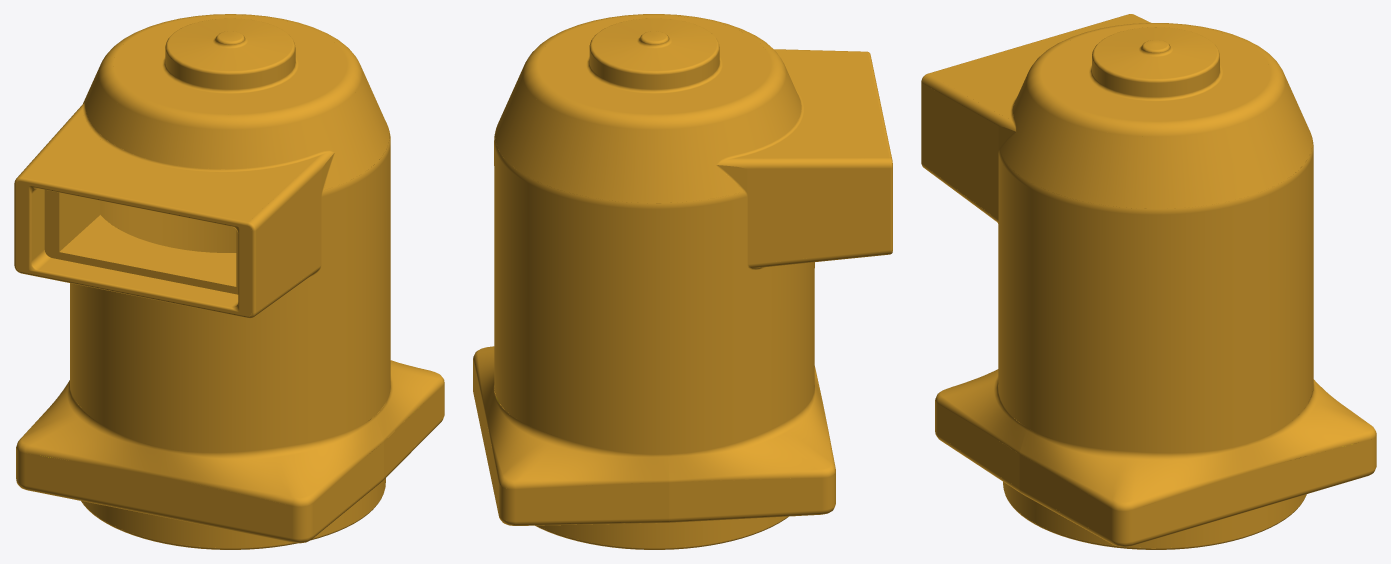
Rendered from 04.8_izolyator-prokhodnoy-uglovoy-ipu-10-208.glb.
The picture shows the model from 3 angles, left to right: view 1: azimuth 30°, elevation 25°; view 2: azimuth 150°, elevation 25°; view 3: azimuth 270°, elevation 25°; orthographic projection.
Visible parts, largest first — view 1: 04.8_izolyator-prokhodnoy-uglovoy-ipu-10-208; view 2: 04.8_izolyator-prokhodnoy-uglovoy-ipu-10-208; view 3: 04.8_izolyator-prokhodnoy-uglovoy-ipu-10-208.
Part boxes in pixels (bbox=[...]): 04.8_izolyator-prokhodnoy-uglovoy-ipu-10-208: bbox=[14, 14, 444, 549]; 04.8_izolyator-prokhodnoy-uglovoy-ipu-10-208: bbox=[473, 14, 892, 549]; 04.8_izolyator-prokhodnoy-uglovoy-ipu-10-208: bbox=[921, 14, 1376, 549].
Bounding box in the file's own units: 300 × 305 × 285.
